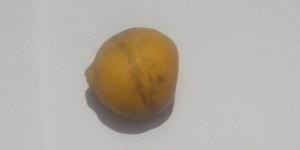BAD: (80, 26, 181, 121)
